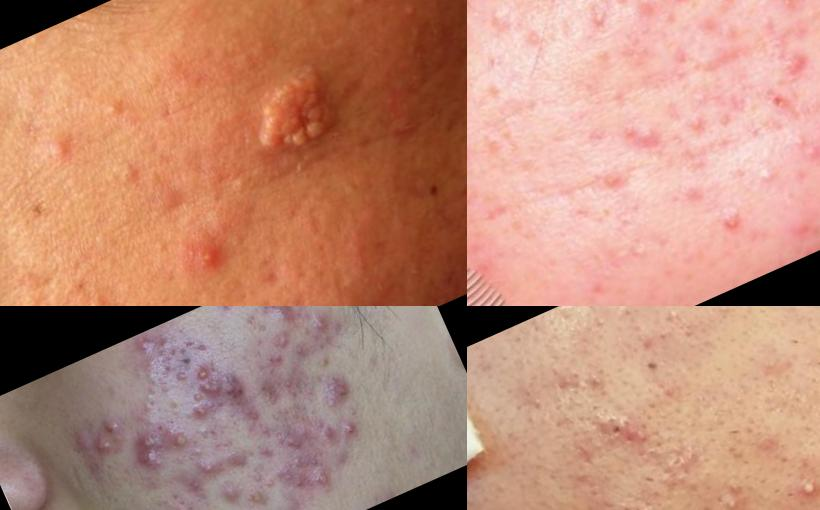blackhead: (597, 397, 667, 465), (655, 444, 720, 494), (106, 162, 148, 205), (96, 90, 136, 133), (194, 419, 218, 446)
papular: (624, 107, 676, 164), (769, 40, 820, 87), (42, 131, 86, 183), (188, 241, 231, 286), (784, 123, 820, 171), (468, 116, 488, 185), (266, 327, 301, 358), (98, 416, 130, 443), (256, 307, 299, 326), (316, 420, 341, 447), (710, 1, 743, 13)
purulent: (790, 467, 820, 510), (720, 483, 759, 510), (312, 467, 340, 502), (307, 311, 333, 336), (188, 399, 214, 423), (169, 427, 191, 455), (192, 363, 215, 386), (198, 457, 222, 479), (168, 495, 202, 510), (247, 488, 268, 510)
sebo-crystan-conglo: (268, 425, 324, 481), (129, 423, 179, 481), (203, 371, 254, 415), (316, 371, 360, 418), (128, 332, 166, 365), (93, 435, 122, 463), (341, 417, 366, 441)
syringoma: (233, 52, 357, 170)
whitehead: (604, 218, 671, 284), (702, 200, 757, 252), (580, 1, 633, 54), (743, 151, 791, 202), (579, 307, 647, 343), (392, 1, 432, 37), (655, 307, 690, 331), (346, 1, 382, 24), (710, 307, 744, 321)
